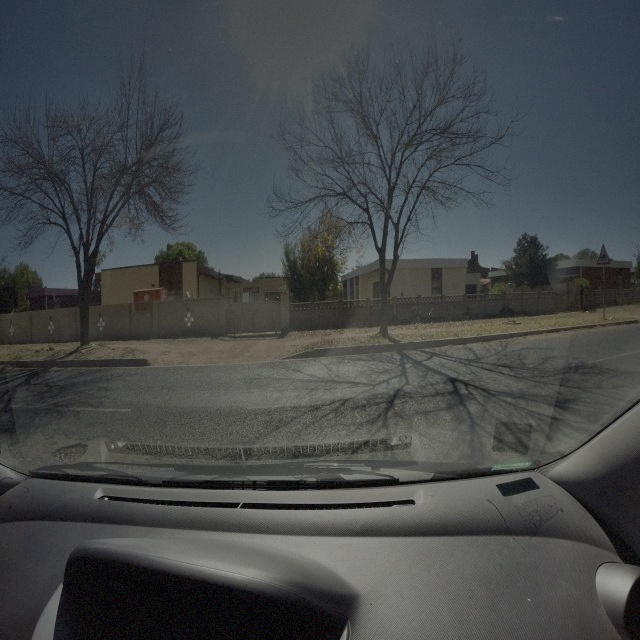pothole: (51, 440, 88, 464)
